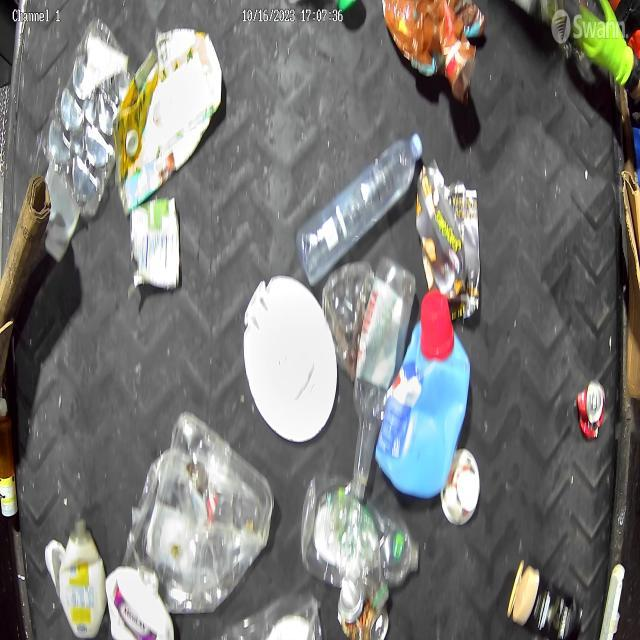can: (335, 597, 390, 640), (576, 378, 606, 448)
non_white_jug: (382, 292, 475, 490)
plastic_bottle: (292, 134, 426, 270), (348, 261, 416, 510)
